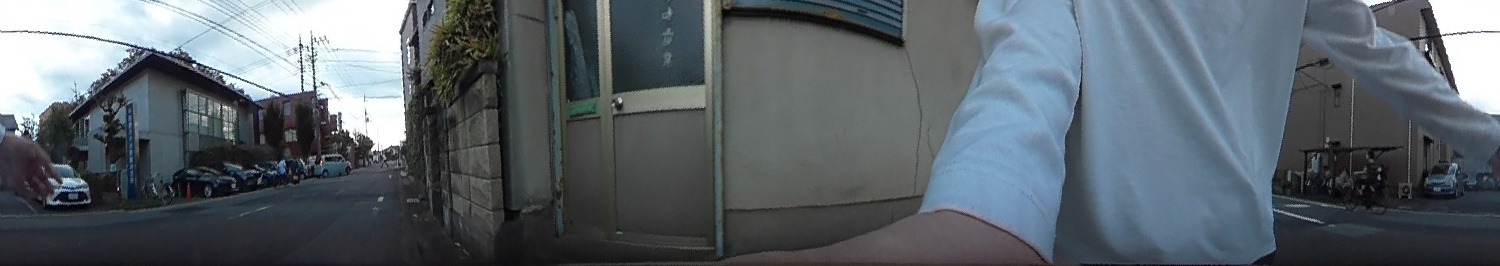difficult_person: (1352, 147, 1379, 211), (274, 153, 287, 182), (378, 149, 390, 168)
